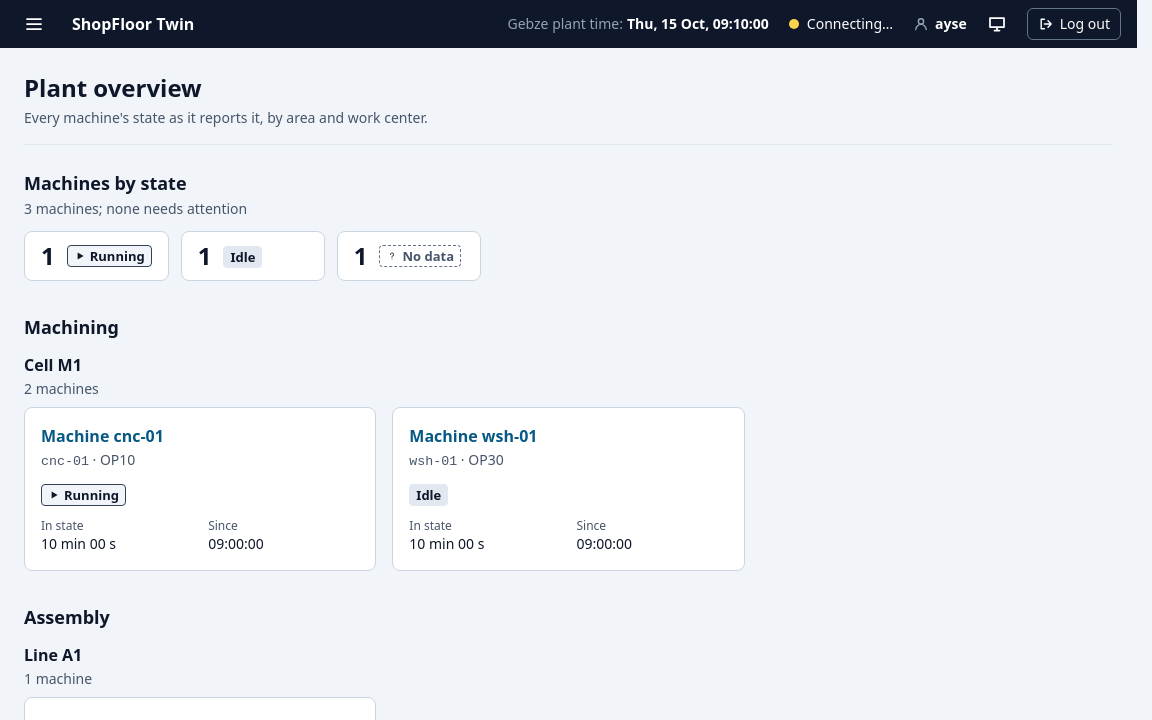
the nav drawer below xl › opens from the menu button, takes the focus, and closes on Escape with the focus back
Click the button named "Menu".
click(34, 24)  # box x1=16 y1=6 x2=52 y2=42
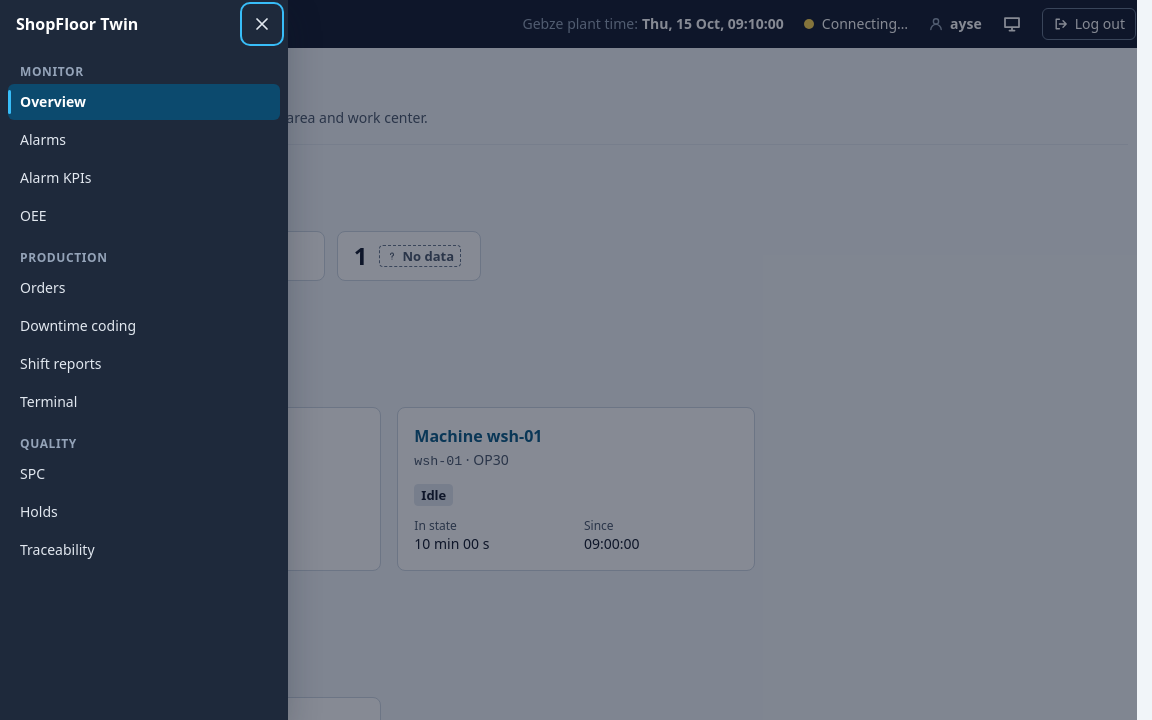
Now the button named "Menu" is expanded, box x1=16 y1=6 x2=52 y2=42
Press Escape in the button named "Close the navigation", box x1=244 y1=6 x2=280 y2=42
(page scrolled)
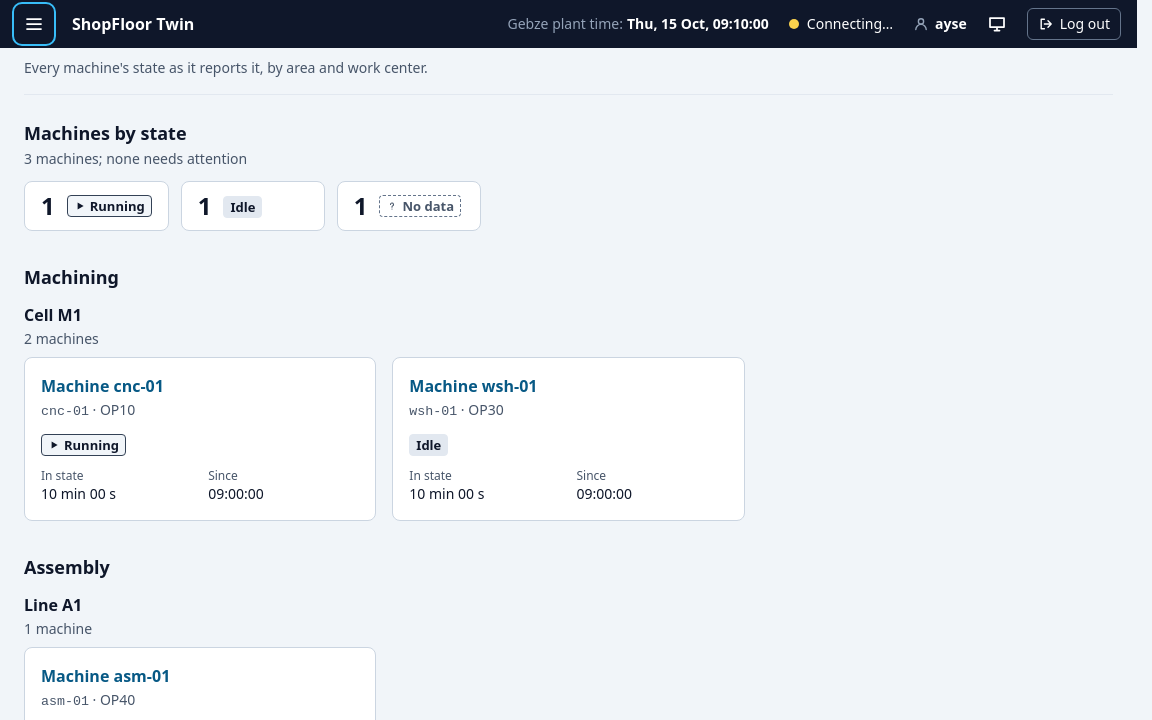
Now the button named "Menu" is collapsed, box x1=16 y1=6 x2=52 y2=42
